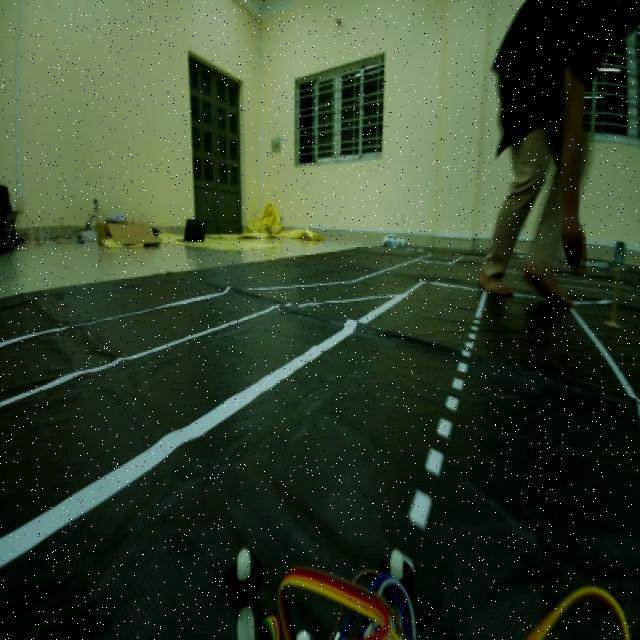highway_entry: (608, 226, 626, 272)
